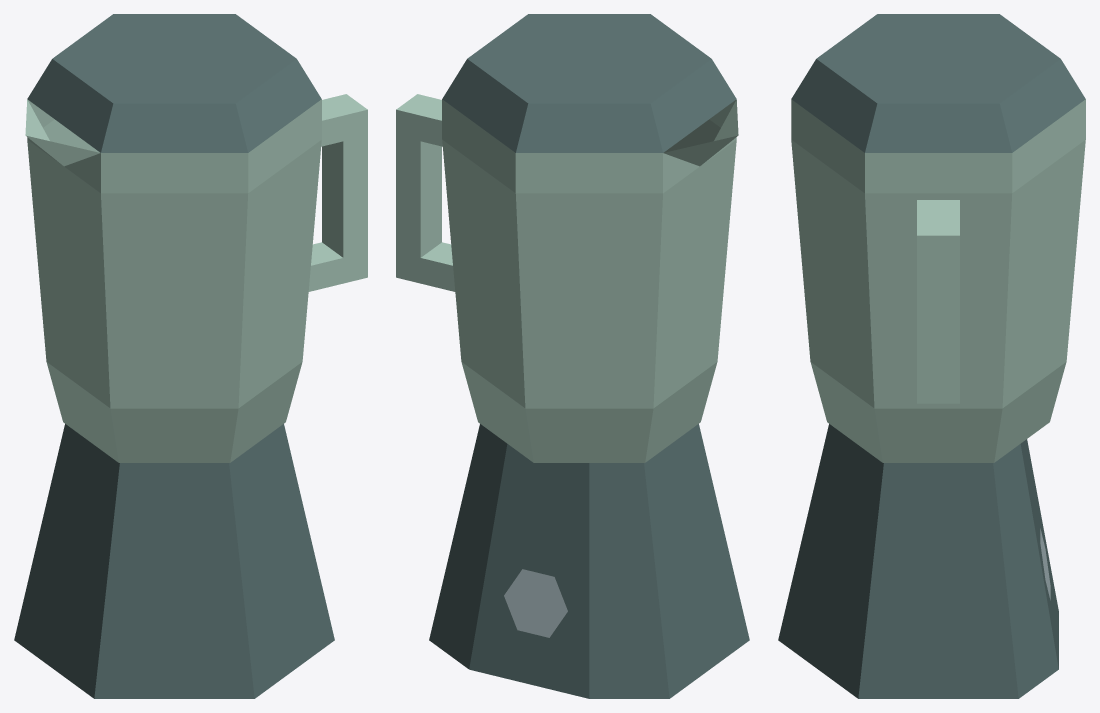
The model's file is kitchenBlender.dae.
3 renders of one model, left to right at view 1: azimuth 30°, elevation 25°; view 2: azimuth 150°, elevation 25°; view 3: azimuth 270°, elevation 25°, orthographic.
Visible parts, largest first — view 1: blenderCup, kitchenBlender, blenderTop; view 2: blenderCup, kitchenBlender, blenderTop; view 3: blenderCup, kitchenBlender, blenderTop.
Boxes of the visible parts, left/top/right/bottom form: blenderCup: left=25, top=94, right=367, bottom=462; kitchenBlender: left=14, top=424, right=334, bottom=698; blenderTop: left=27, top=14, right=321, bottom=152; blenderCup: left=396, top=94, right=738, bottom=462; kitchenBlender: left=429, top=424, right=749, bottom=698; blenderTop: left=442, top=14, right=736, bottom=152; blenderCup: left=791, top=99, right=1085, bottom=462; kitchenBlender: left=778, top=424, right=1058, bottom=698; blenderTop: left=791, top=14, right=1085, bottom=152.
Bounding box in the file's own units: 0.1358 × 0.2275 × 0.1091.
